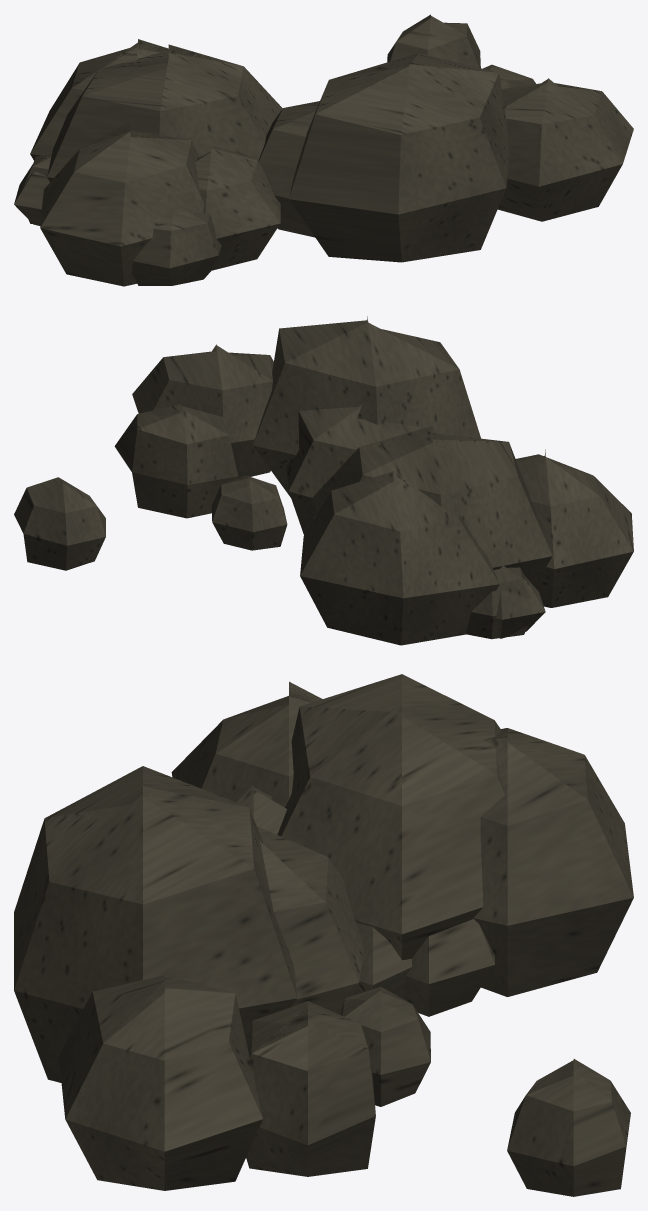
The model's file is PROP-FA8578652230_lod2.glb.
The picture shows the model from 3 angles, top to bottom: view 1: azimuth 30°, elevation 25°; view 2: azimuth 150°, elevation 25°; view 3: azimuth 270°, elevation 25°; orthographic projection. The views are drawn at different scales.
Parts seen in each view (by area): view 1: rock.001; view 2: rock.001; view 3: rock.001.
Part boxes in pixels (<box>): rock.001: <box>14,14,633,286</box>; rock.001: <box>14,316,633,645</box>; rock.001: <box>14,674,633,1196</box>.
Bounding box in the file's own units: 1.55 × 0.4788 × 1.01.
1 material, 1 textured.
